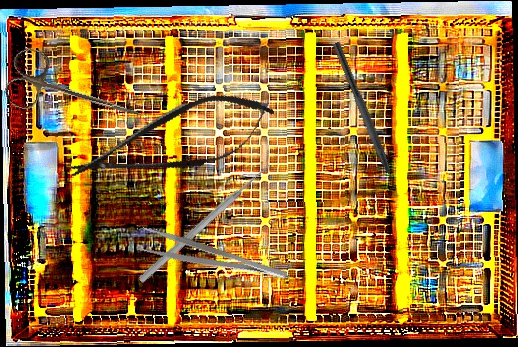Chopper: (322, 41, 404, 200)
Dressing Forceps: (136, 224, 289, 295)
Iris Scissors: (1, 44, 153, 142)
Micro Scissor: (59, 78, 284, 205)
Pusher: (136, 159, 275, 286)
